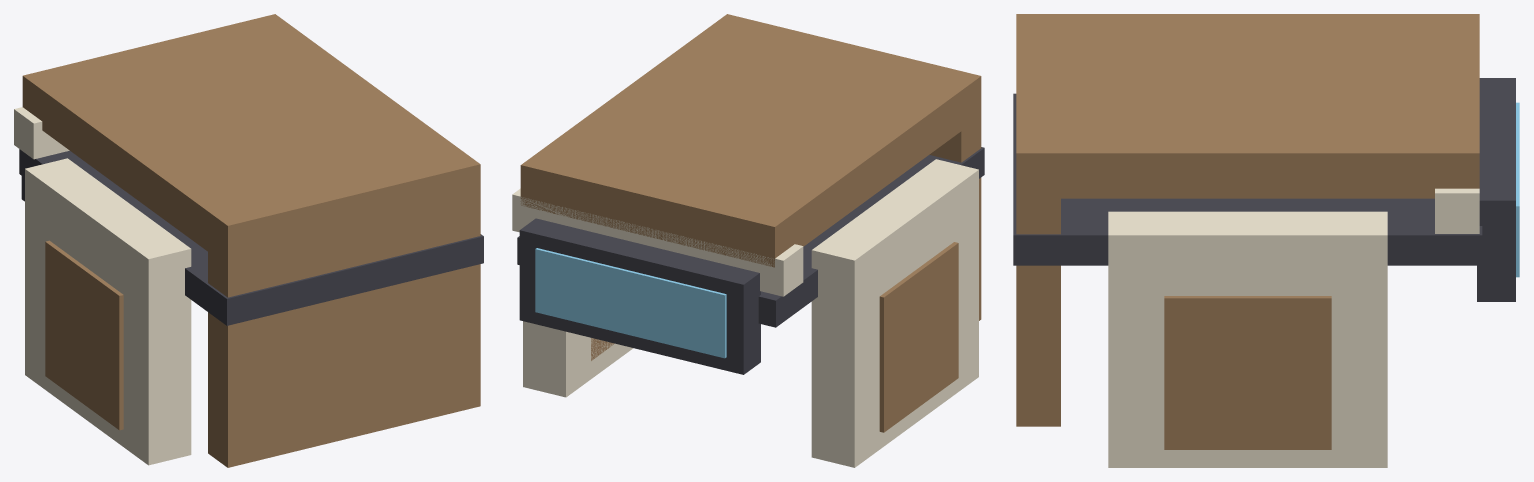
Rendered from chapeu_polar.glb.
3 renders of one model, left to right at view 1: azimuth 30°, elevation 25°; view 2: azimuth 150°, elevation 25°; view 3: azimuth 270°, elevation 25°, orthographic. The views are drawn at different scales.
Parts seen in each view (by area): view 1: chapeu_polar; view 2: chapeu_polar; view 3: chapeu_polar.
Part boxes in pixels (left/top/right/bottom): chapeu_polar: left=14, top=14, right=483, bottom=467; chapeu_polar: left=512, top=14, right=984, bottom=467; chapeu_polar: left=1013, top=14, right=1519, bottom=467.
Size of the model in its own units: 0.79 by 0.58 by 0.9065.
